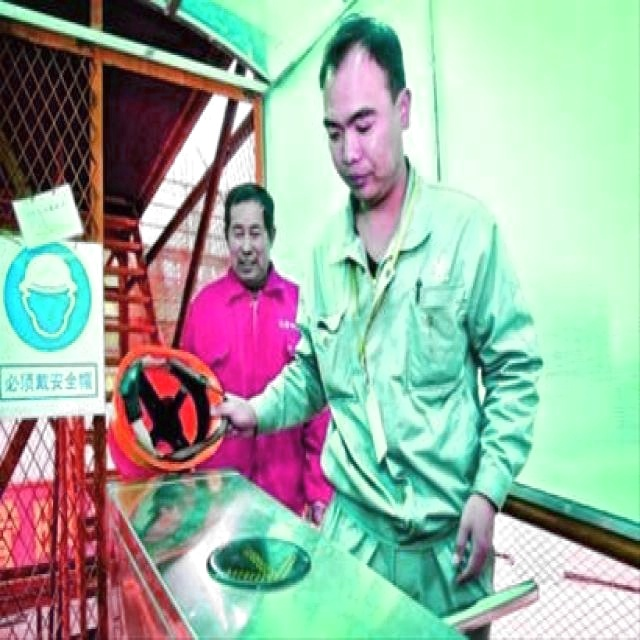Sin_Casco_Mascarrilla: (308, 8, 427, 180), (219, 181, 278, 283)
Sin_Chaleco: (298, 192, 522, 539)
